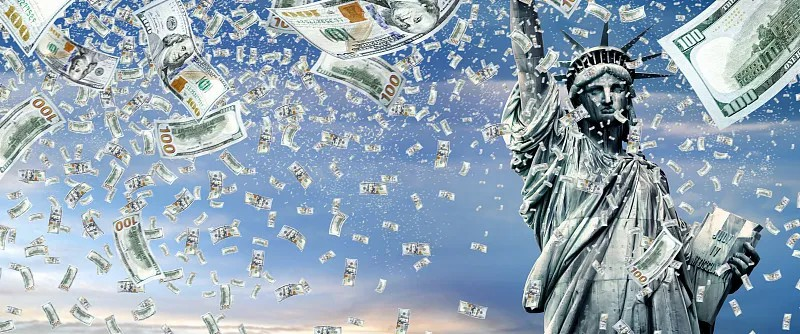SL: (500, 1, 764, 334)
